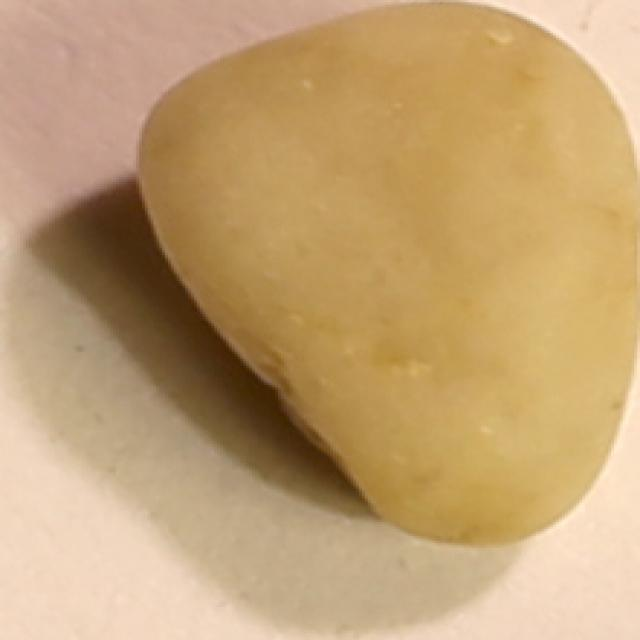stone: (130, 0, 640, 548)
